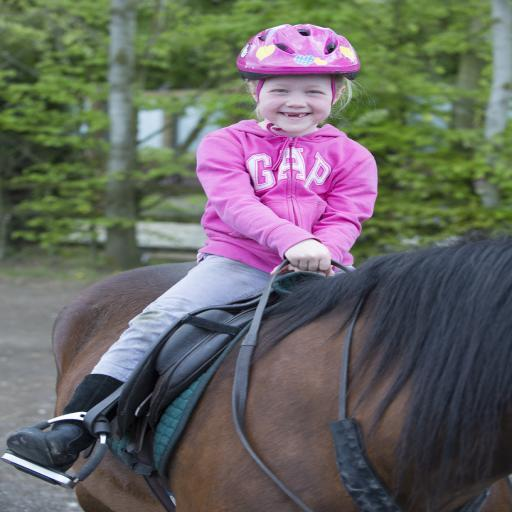horse: (54, 234, 512, 512)
